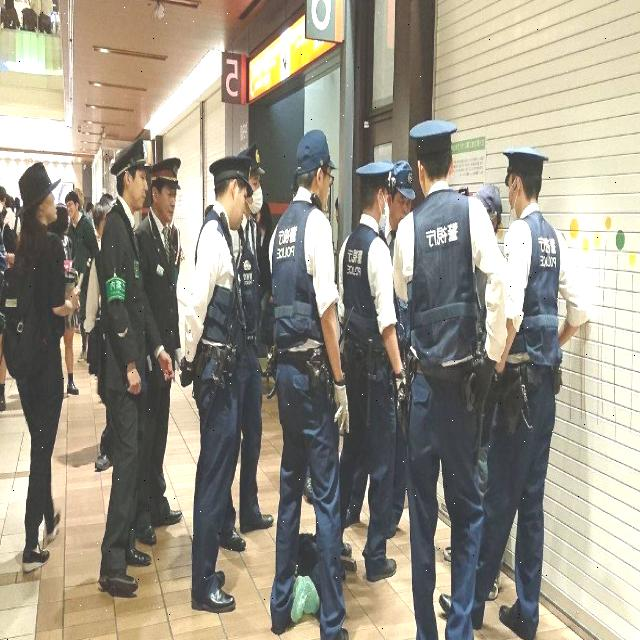police: (471, 142, 592, 640), (391, 104, 490, 640), (264, 131, 355, 640), (185, 140, 266, 640), (337, 155, 407, 596), (93, 120, 154, 602), (137, 152, 186, 532)
